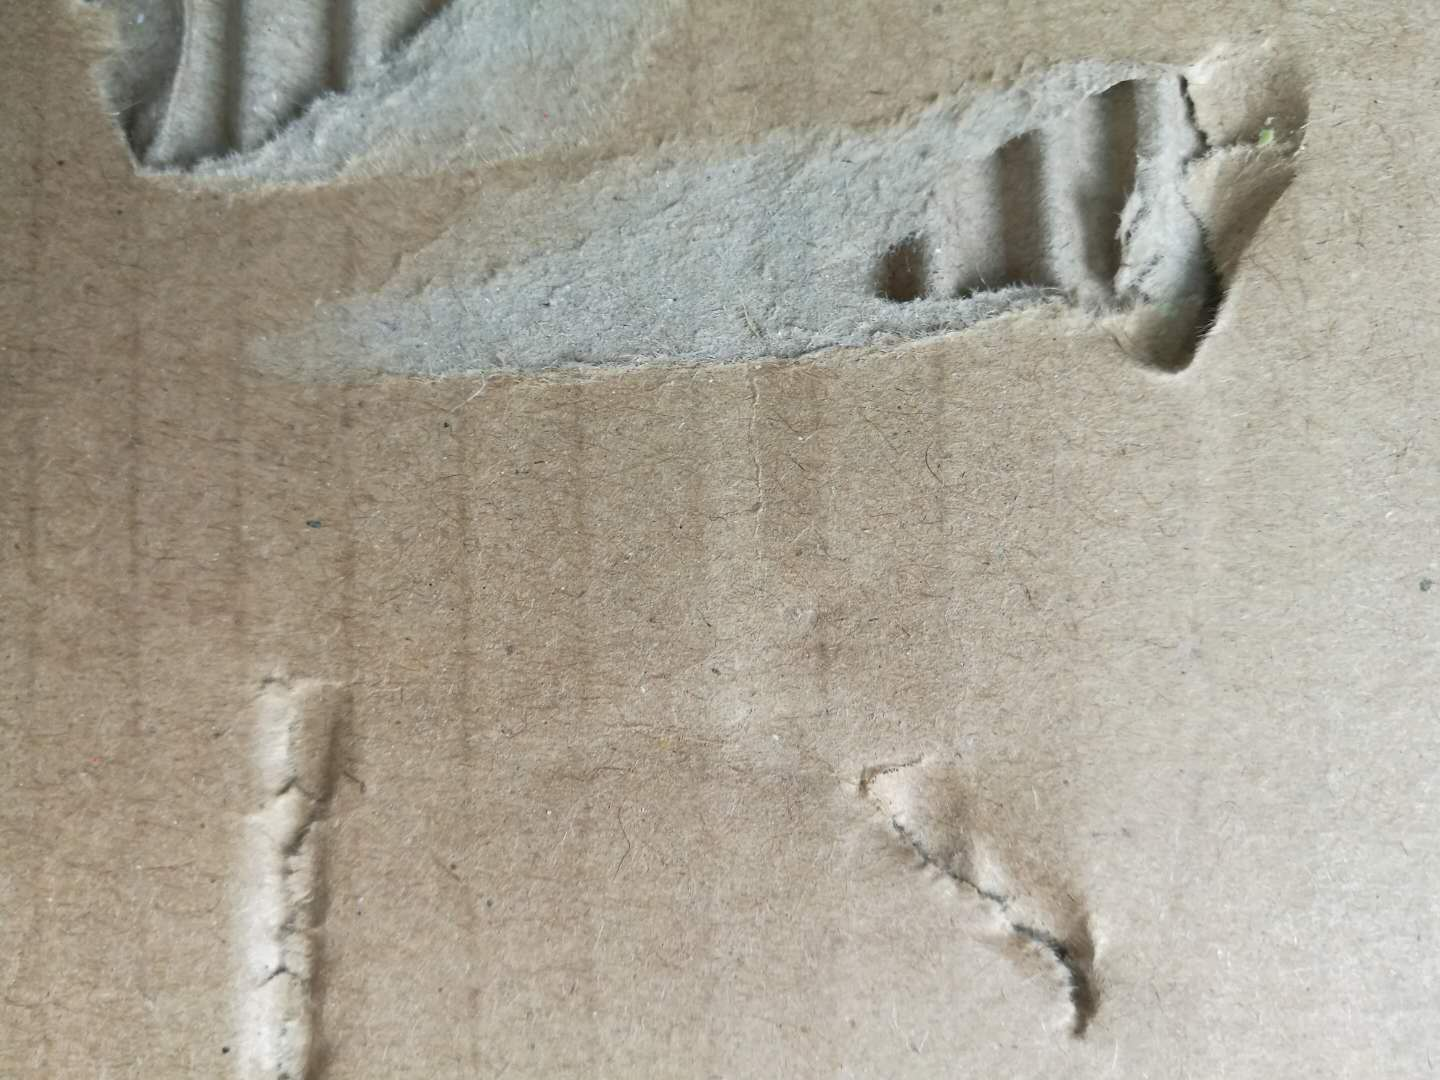defect: (220, 36, 1347, 420), (50, 2, 735, 219), (762, 704, 1142, 1051), (187, 648, 395, 1080)
